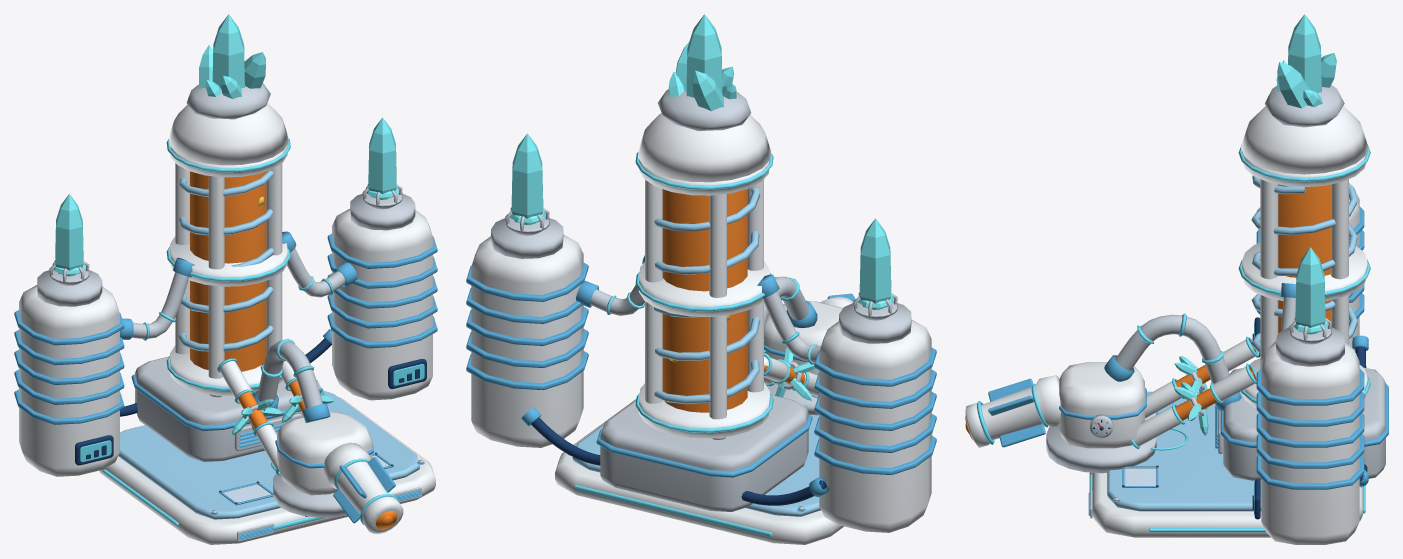
File: LavaPump_T3.fbx
3 renders of one model, left to right at view 1: azimuth 30°, elevation 25°; view 2: azimuth 150°, elevation 25°; view 3: azimuth 270°, elevation 25°, orthographic. The views are drawn at different scales.
Parts seen in each view (by area): view 1: LavaPumpT3Reactor, LavaPumpT3TowerA, LavaPumpT3TowerB, LavaPumpT3Deck, LavaPumpT3ReactorCore, LavaPumpT3ReactorBase, LavaPumpT3Turret, LavaPumpT3Cables, LavaPumpT3Nozzle, LavaPumpT3ReactorCrystalsGlow, LavaPumpT3Hose, LavaPumpT3ReactorCrystals (+9 smaller); view 2: LavaPumpT3Reactor, LavaPumpT3TowerA, LavaPumpT3TowerB, LavaPumpT3ReactorBase, LavaPumpT3ReactorCore, LavaPumpT3Deck, LavaPumpT3Cables, LavaPumpT3ReactorCrystalsGlow, LavaPumpT3ReactorCrystals, LavaPumpT3Turret, LavaPumpT3ReactorCoreGlow, LavaPumpT3TowerACrystalGlow (+5 smaller); view 3: LavaPumpT3TowerB, LavaPumpT3Reactor, LavaPumpT3Deck, LavaPumpT3Turret, LavaPumpT3ReactorBase, LavaPumpT3Nozzle, LavaPumpT3ReactorCore, LavaPumpT3Hose, LavaPumpT3ReactorCrystalsGlow, LavaPumpT3TowerBCrystalGlow, LavaPumpT3ReactorCrystals, LavaPumpT3LavaPipeB (+7 smaller).
Part boxes in pixels (x1,y1,x2,y2): LavaPumpT3Reactor: [169, 103, 288, 397]; LavaPumpT3TowerA: [14, 260, 124, 476]; LavaPumpT3TowerB: [327, 184, 437, 400]; LavaPumpT3Deck: [99, 390, 435, 544]; LavaPumpT3ReactorCore: [190, 171, 266, 371]; LavaPumpT3ReactorBase: [131, 356, 324, 461]; LavaPumpT3Turret: [273, 412, 373, 517]; LavaPumpT3Cables: [120, 231, 357, 416]; LavaPumpT3Nozzle: [324, 442, 403, 534]; LavaPumpT3ReactorCrystalsGlow: [199, 14, 265, 98]; LavaPumpT3Hose: [253, 338, 330, 422]; LavaPumpT3ReactorCrystals: [186, 83, 270, 119]; LavaPumpT3Reactor: [638, 113, 770, 439]; LavaPumpT3TowerA: [814, 292, 936, 532]; LavaPumpT3TowerB: [466, 207, 588, 447]; LavaPumpT3ReactorBase: [596, 394, 812, 511]; LavaPumpT3ReactorCore: [662, 189, 747, 412]; LavaPumpT3Deck: [555, 415, 932, 544]; LavaPumpT3Cables: [521, 255, 829, 505]; LavaPumpT3ReactorCrystalsGlow: [668, 14, 736, 111]; LavaPumpT3ReactorCrystals: [658, 89, 751, 130]; LavaPumpT3Turret: [764, 301, 842, 415]; LavaPumpT3ReactorCoreGlow: [635, 152, 773, 432]; LavaPumpT3TowerACrystalGlow: [859, 218, 891, 309]; LavaPumpT3TowerB: [1252, 318, 1364, 544]; LavaPumpT3Reactor: [1241, 106, 1368, 408]; LavaPumpT3Deck: [1088, 391, 1362, 537]; LavaPumpT3Turret: [1046, 362, 1156, 473]; LavaPumpT3ReactorBase: [1215, 367, 1388, 480]; LavaPumpT3Nozzle: [965, 375, 1060, 447]; LavaPumpT3ReactorCore: [1278, 184, 1330, 333]; LavaPumpT3Hose: [1104, 313, 1241, 410]; LavaPumpT3ReactorCrystalsGlow: [1276, 14, 1336, 108]; LavaPumpT3TowerBCrystalGlow: [1295, 247, 1325, 333]; LavaPumpT3ReactorCrystals: [1265, 85, 1344, 127]; LavaPumpT3LavaPipeB: [1133, 366, 1256, 446].
Size of the model in its own units: 408 by 425 by 352.
